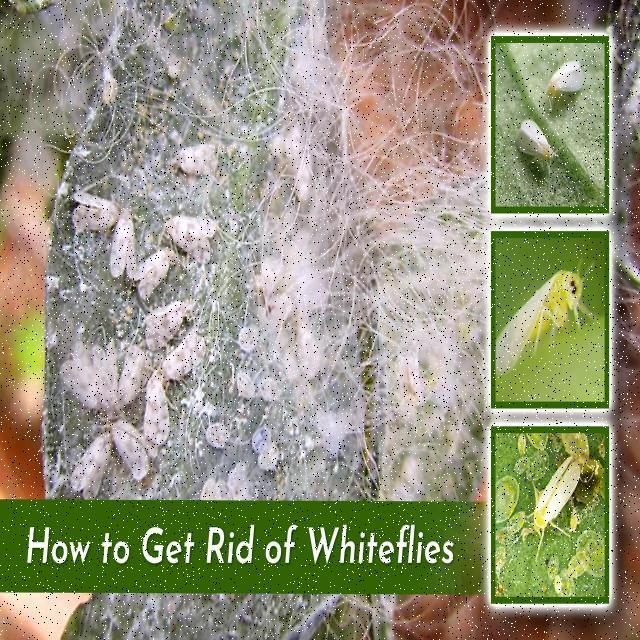Whiteflies: (37, 81, 403, 498), (500, 249, 603, 399), (522, 449, 581, 541), (514, 105, 561, 182), (541, 45, 590, 108)
